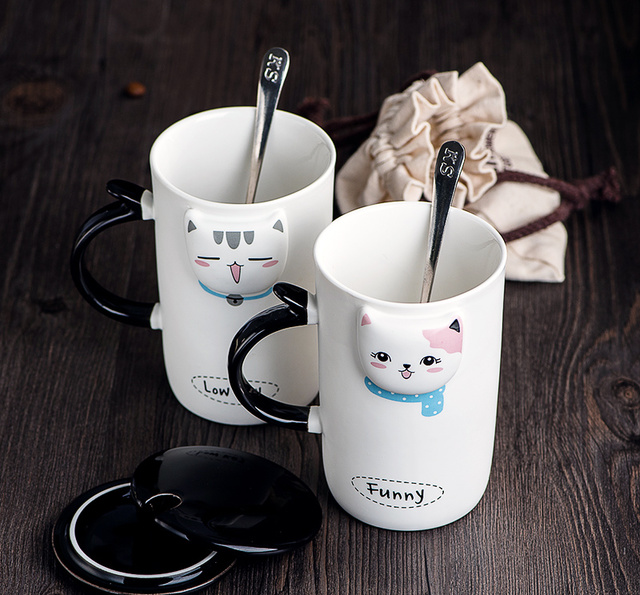cup: (227, 200, 509, 533), (72, 102, 337, 427)
